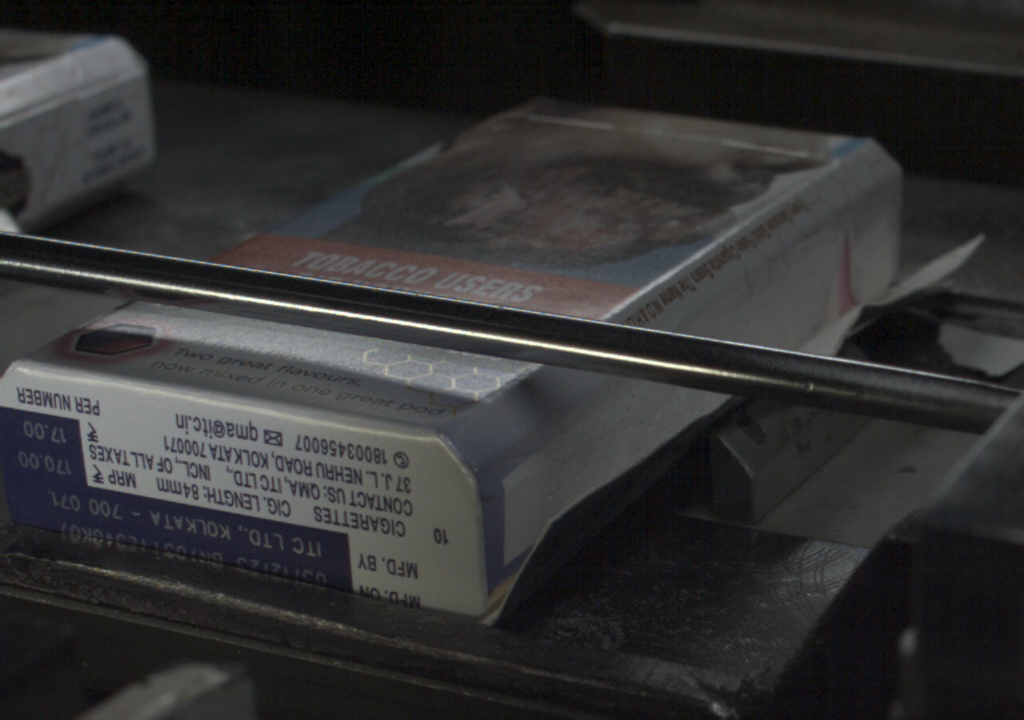g_bottom: (1, 364, 486, 616)
g_label: (2, 485, 351, 592)
ng_lmiter: (484, 439, 561, 522), (561, 376, 635, 439), (721, 277, 790, 339), (789, 217, 853, 279)
ng_miter: (854, 163, 938, 290)
price: (1, 414, 84, 484)
